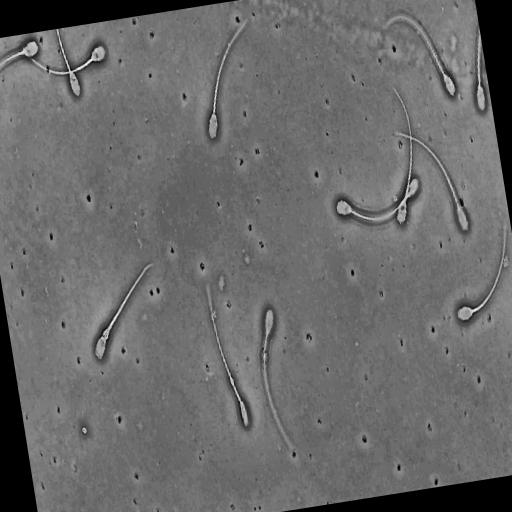distal-droplet: (229, 376, 233, 385), (263, 351, 266, 360)
normal: (203, 266, 254, 438), (393, 127, 471, 236), (88, 260, 158, 367), (376, 8, 458, 99), (454, 214, 509, 334), (207, 8, 252, 141), (258, 303, 292, 452), (391, 85, 413, 227), (21, 41, 107, 77), (334, 187, 415, 222), (0, 38, 39, 70)
proximal-droplet: (103, 329, 108, 339)
